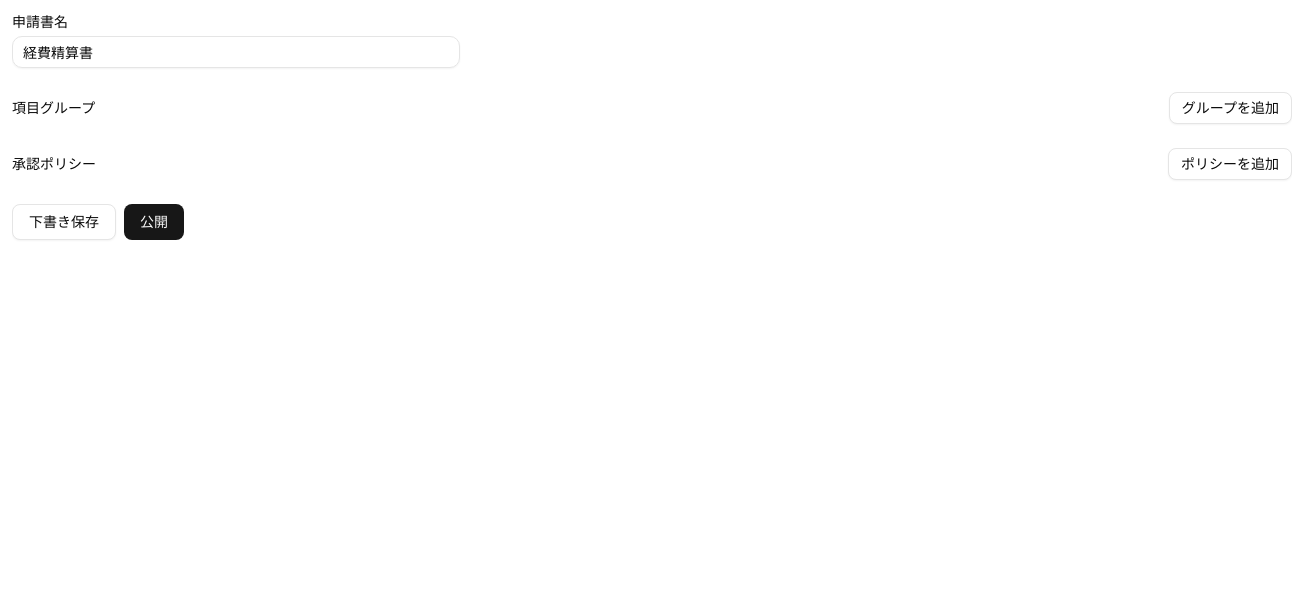
Test: DocumentFormBuilder › adds a group and a field, then saves the draft with the entered values and an auto-generated key
The image size is (1304, 593).
Click the button "グループを追加".
click(1230, 108)  # box [1169,92,1292,124]
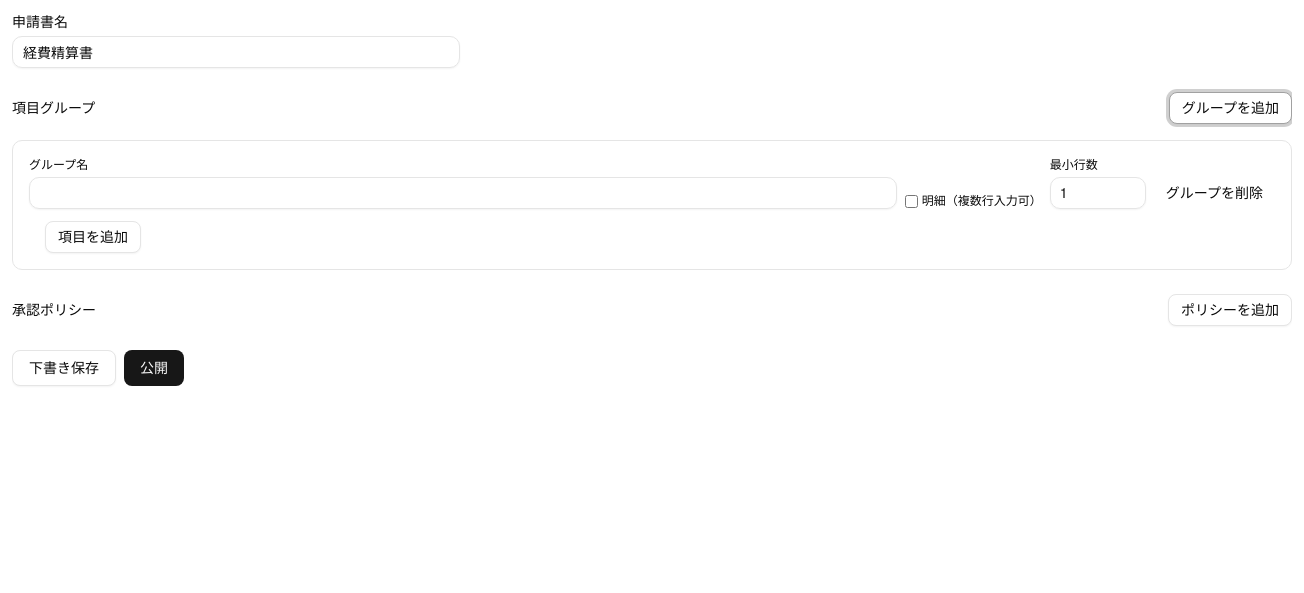
Type "基本情報" into the field labelled "グループ名".
click(463, 193); type("基本情報")  # box [29,177,897,209]
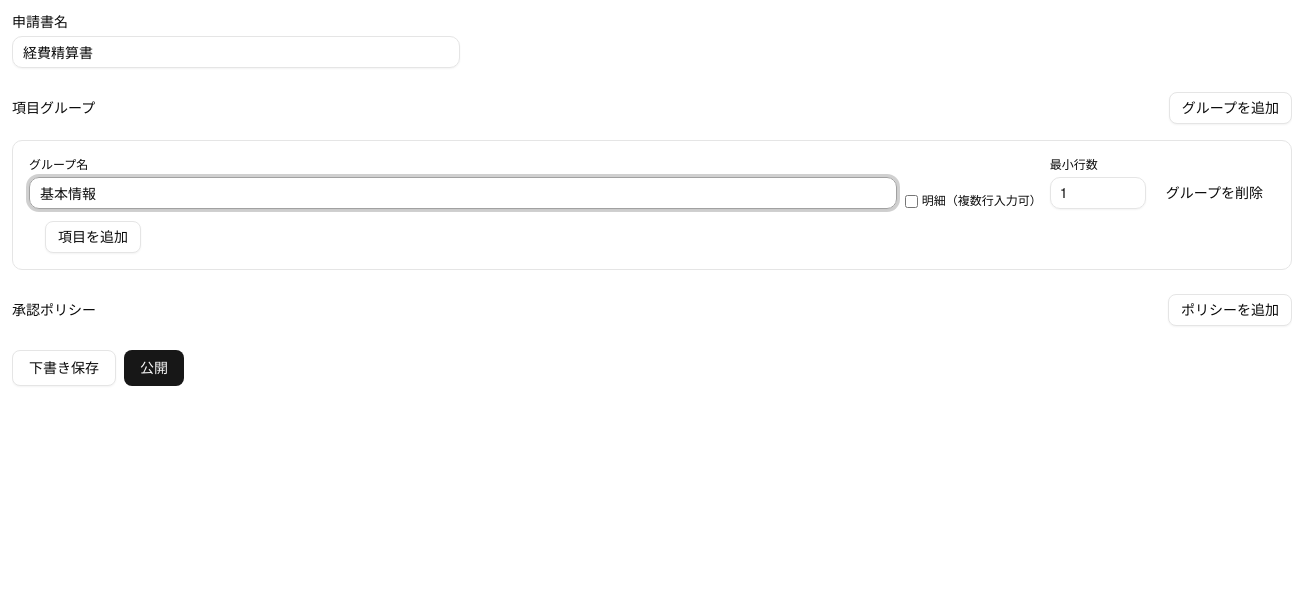
Click the button "項目を追加".
click(93, 237)  # box [45,221,141,253]
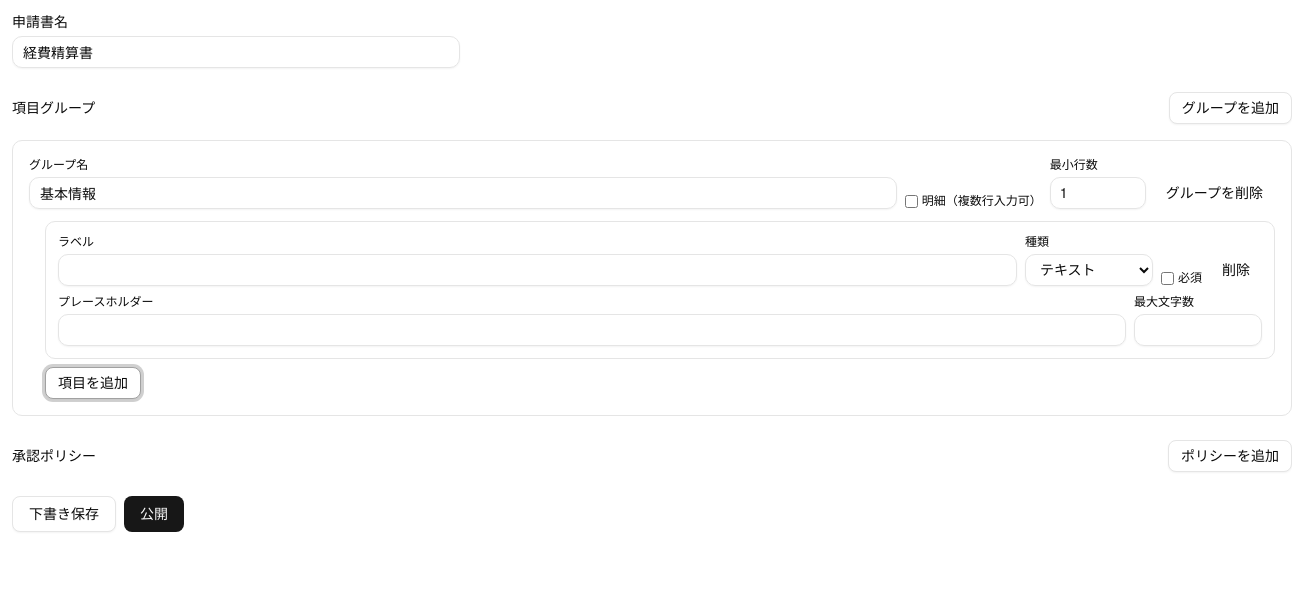
Type "件名" into the field labelled "ラベル".
click(538, 270); type("件名")  # box [58,254,1017,286]
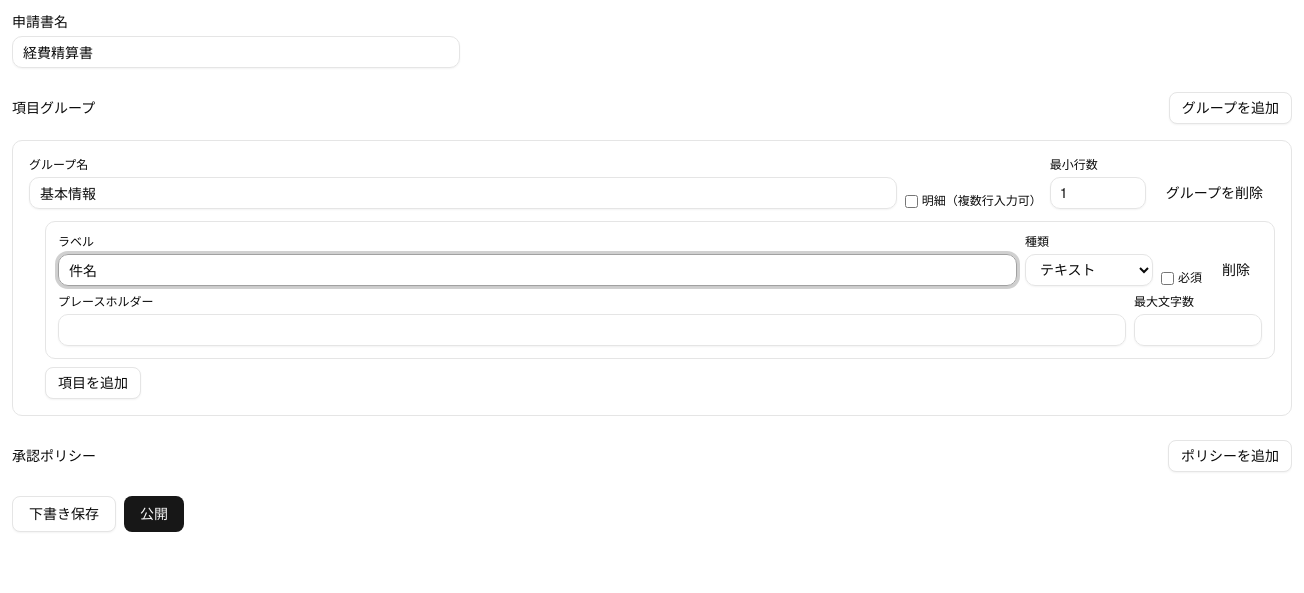
Click the button "下書き保存".
click(64, 514)  # box [12,496,116,532]
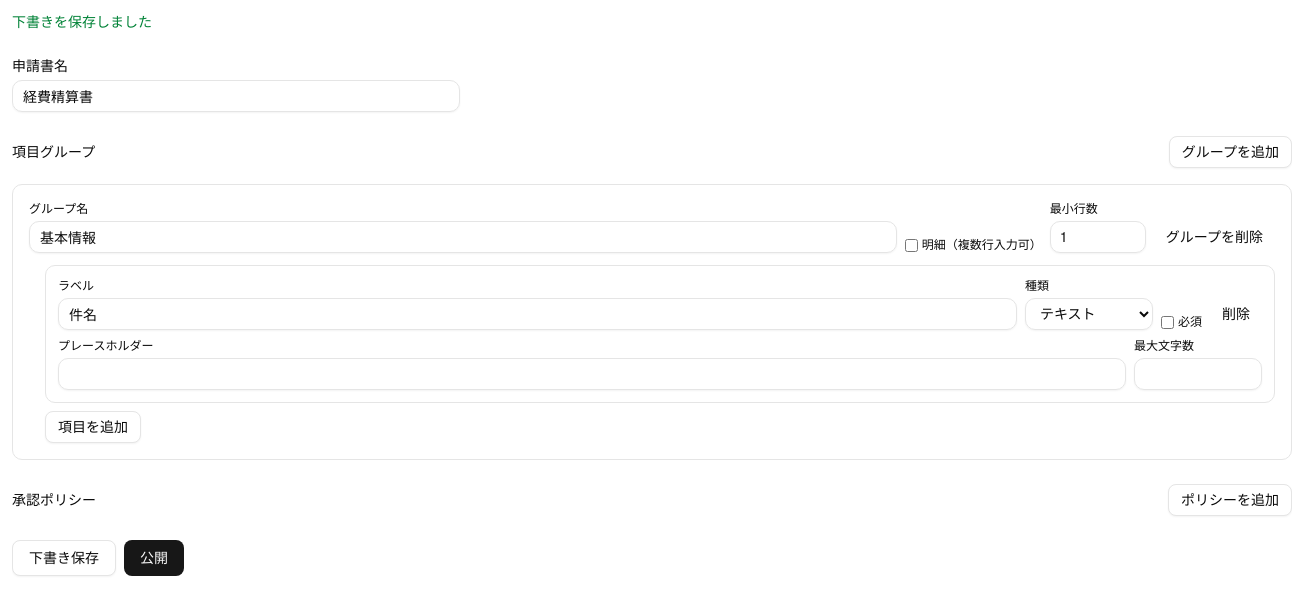
Expected: the message reads "下書きを保存しました", [12,13,152,31]
